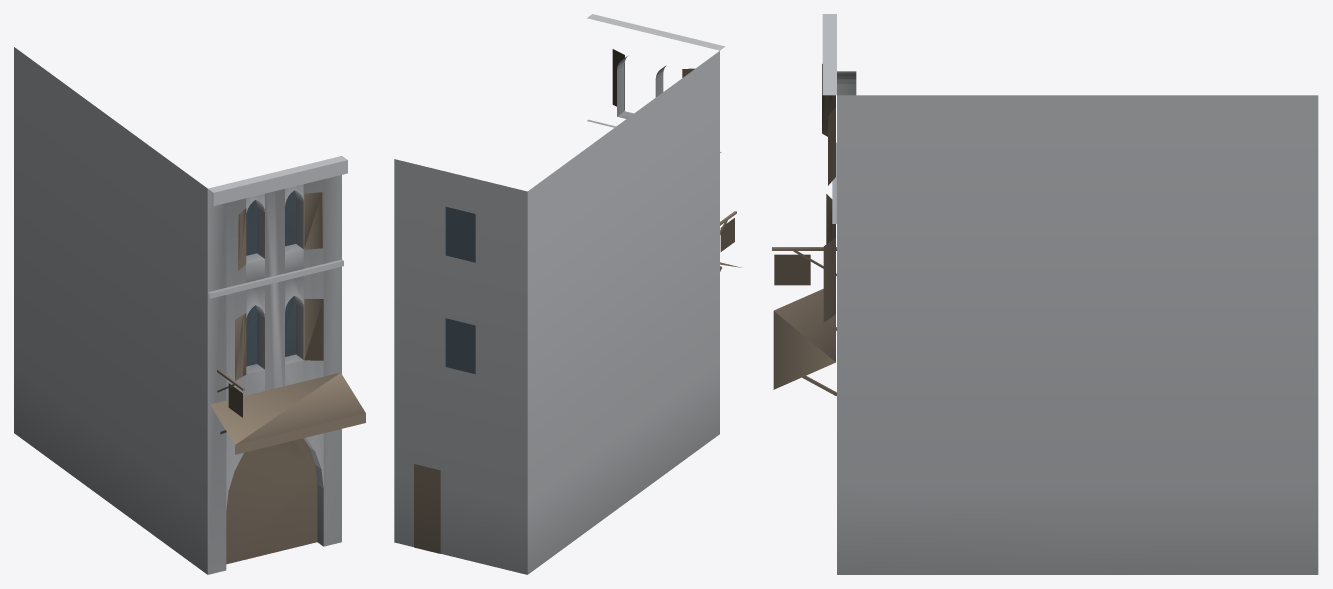
File: sg_house_shut.glb
3 views of the same model, side by side, from view 1: azimuth 30°, elevation 25°; view 2: azimuth 150°, elevation 25°; view 3: azimuth 270°, elevation 25° (orthographic). The views are drawn at different scales.
Parts seen in each view (by area): view 1: sg_house_shut_SG_Stone, sg_house_shut_SG_Joinery, sg_house_shut_SG_Glass; view 2: sg_house_shut_SG_Stone, sg_house_shut_SG_Joinery, sg_house_shut_SG_Glass; view 3: sg_house_shut_SG_Stone, sg_house_shut_SG_Joinery.
Boxes of the visible parts, <box> form: sg_house_shut_SG_Stone: <box>14,47,347,574</box>; sg_house_shut_SG_Joinery: <box>210,192,365,564</box>; sg_house_shut_SG_Glass: <box>246,190,295,366</box>; sg_house_shut_SG_Stone: <box>394,14,725,574</box>; sg_house_shut_SG_Joinery: <box>414,49,742,553</box>; sg_house_shut_SG_Glass: <box>445,207,475,374</box>; sg_house_shut_SG_Stone: <box>822,14,1318,574</box>; sg_house_shut_SG_Joinery: <box>772,64,836,395</box>.
Size of the model in its own units: 4 by 11 by 11.37.
